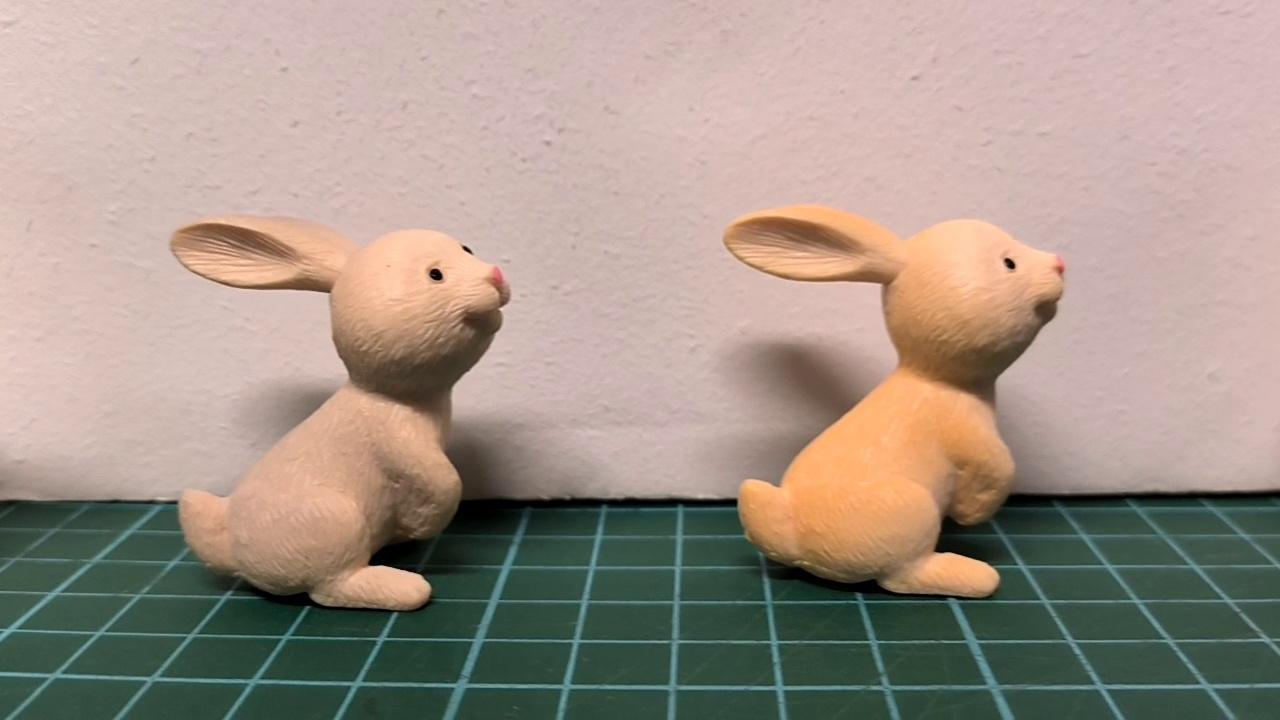pet: (725, 201, 1066, 602), (170, 217, 509, 609)
